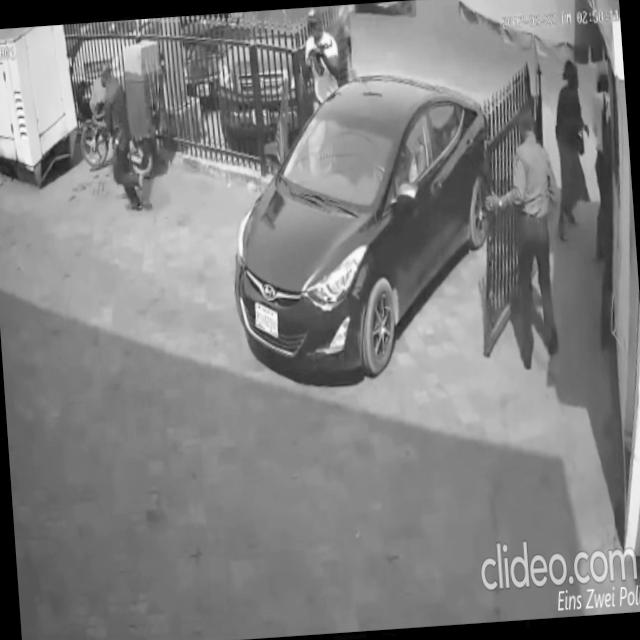gun: (304, 34, 336, 78), (80, 99, 107, 129)
person: (478, 103, 572, 374), (543, 54, 597, 245)
person with a gun: (78, 59, 150, 216), (299, 3, 346, 114)
